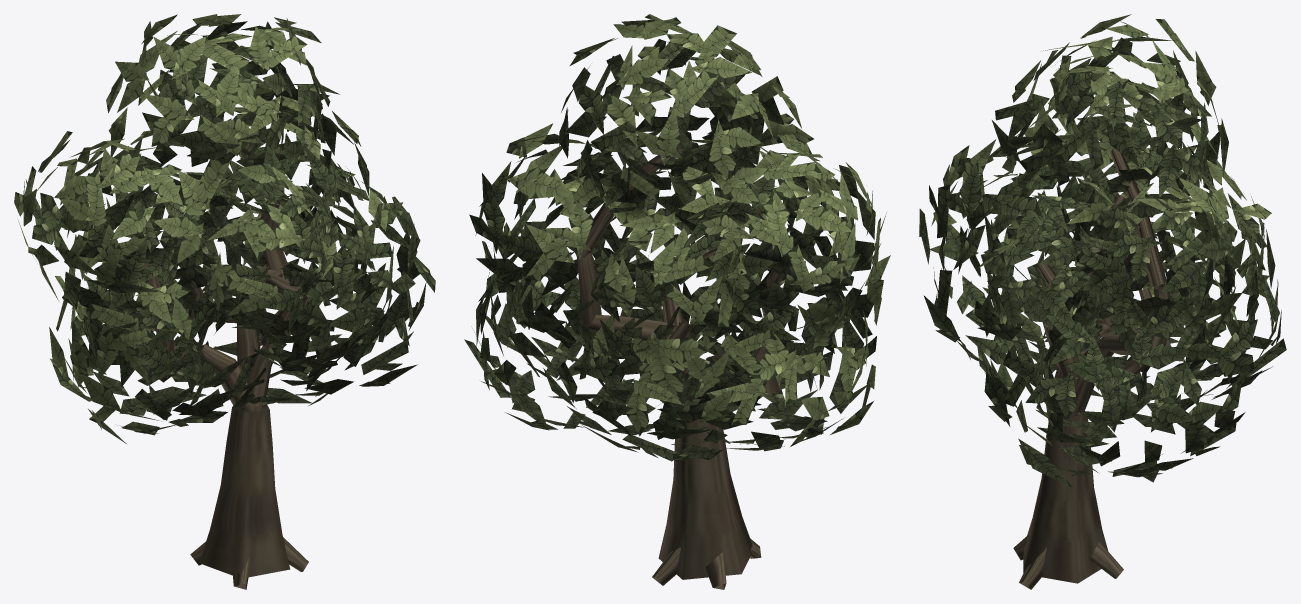
File: tree_round_far.glb
3 views of the same model, side by side, from view 1: azimuth 30°, elevation 25°; view 2: azimuth 150°, elevation 25°; view 3: azimuth 270°, elevation 25° (orthographic). The views are drawn at different scales.
Visible parts, largest first — view 1: tree_round_lod1; view 2: tree_round_lod1; view 3: tree_round_lod1.
Part boxes in pixels (x1=…): tree_round_lod1: x1=14, y1=14, x2=435, y2=589; tree_round_lod1: x1=464, y1=14, x2=890, y2=589; tree_round_lod1: x1=919, y1=14, x2=1286, y2=589.
Size of the model in its own units: 2.02 by 2.72 by 1.7.
1 material, 1 textured.
